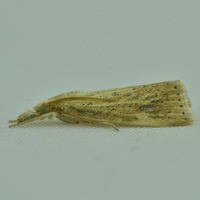insect: (9, 80, 192, 130)
